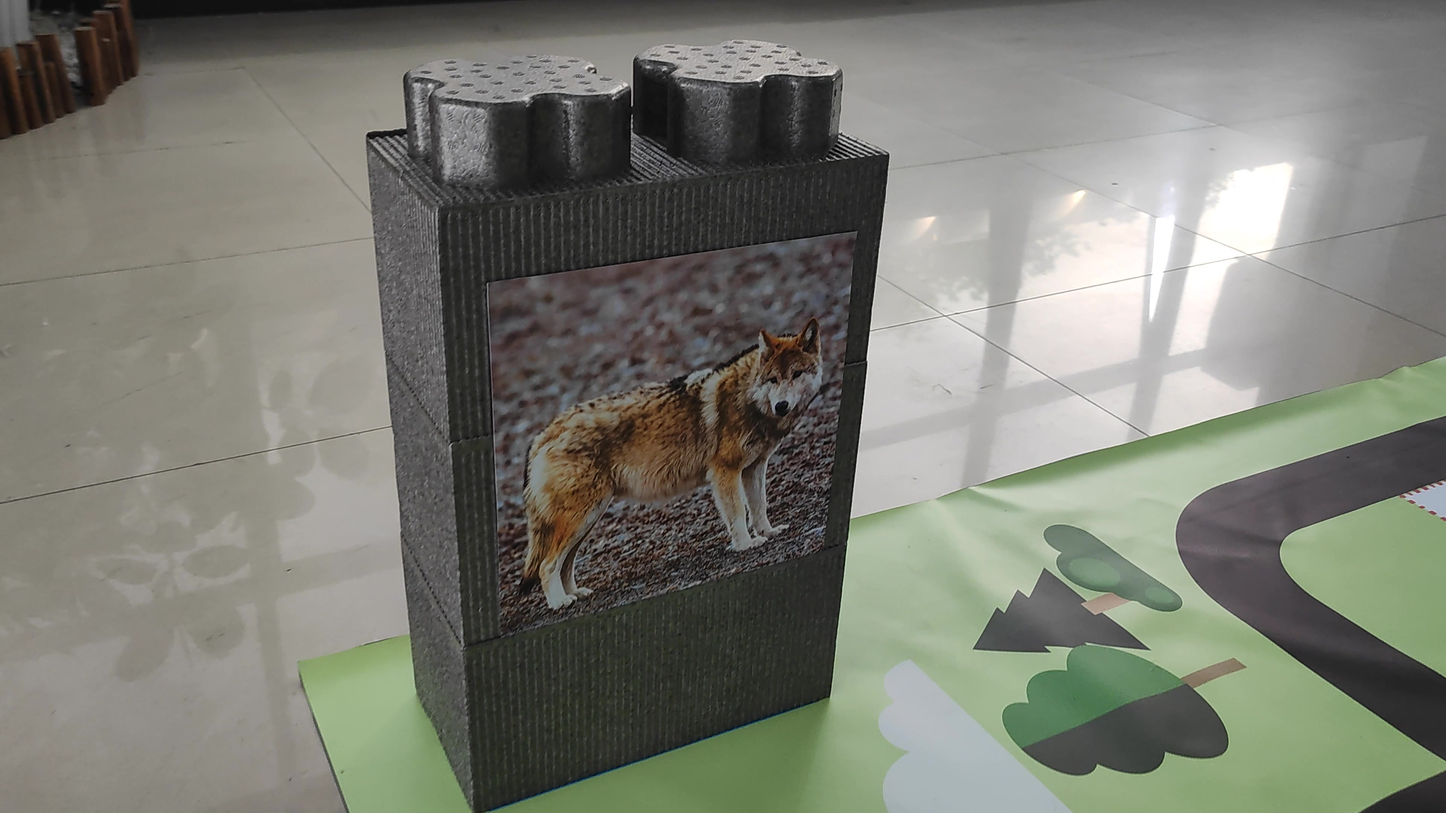wolf: (494, 302, 822, 615)
